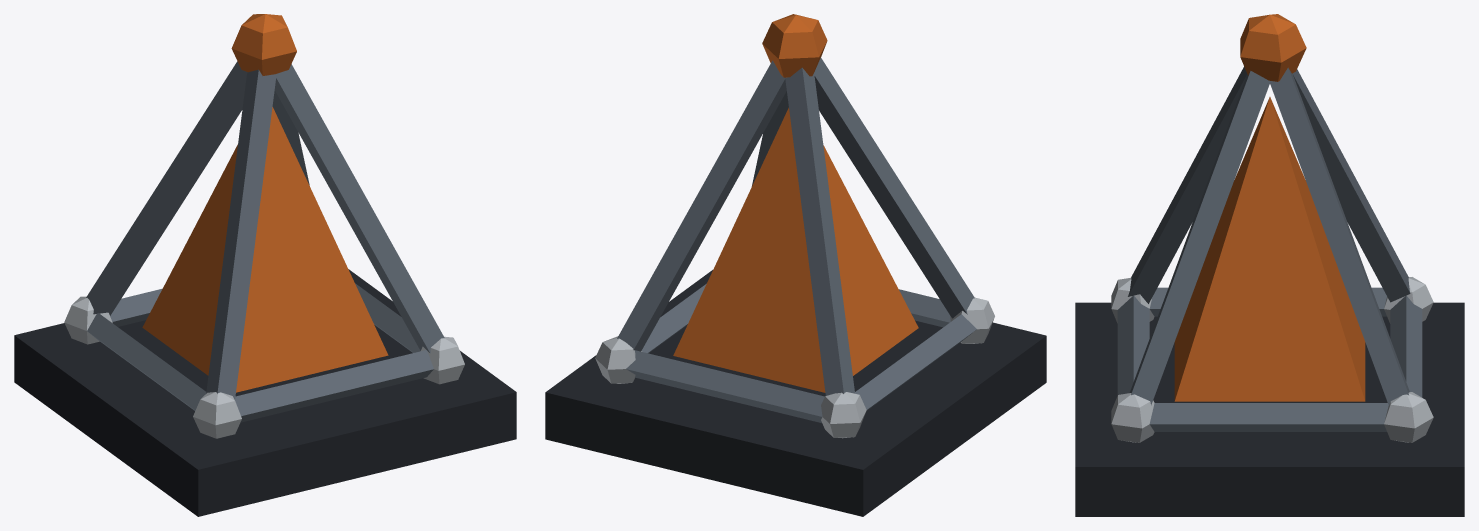
Rendered from holocron-sith.glb.
3 renders of one model, left to right at view 1: azimuth 30°, elevation 25°; view 2: azimuth 150°, elevation 25°; view 3: azimuth 270°, elevation 25°, orthographic. The views are drawn at different scales.
Visible parts, largest first — view 1: m; view 2: m; view 3: m.
Boxes of the visible parts, <box> form: m: <box>14,14,516,516</box>; m: <box>545,14,1046,516</box>; m: <box>1075,14,1464,516</box>.
Bounding box in the file's own units: 0.084 × 0.1 × 0.084.
